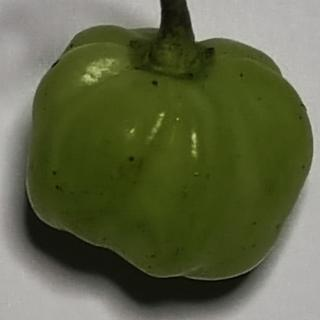Fly-bites: (144, 74, 167, 91), (49, 164, 64, 180), (49, 180, 66, 194), (236, 67, 251, 82), (127, 154, 138, 164)
